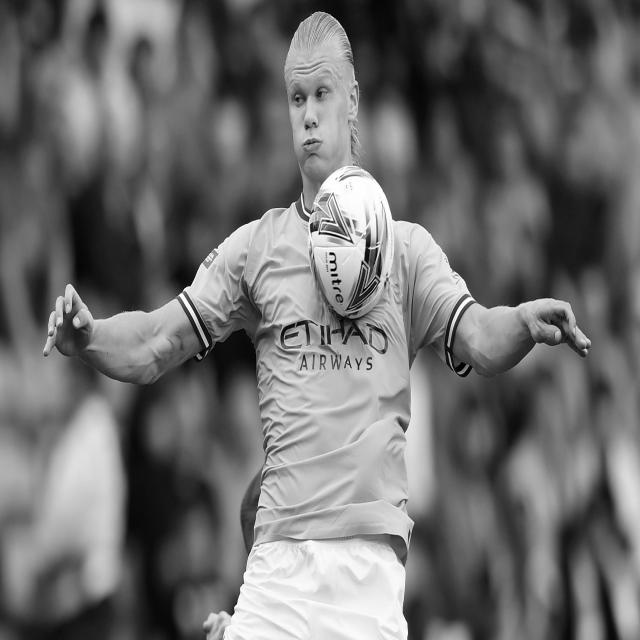football: (311, 161, 395, 318)
